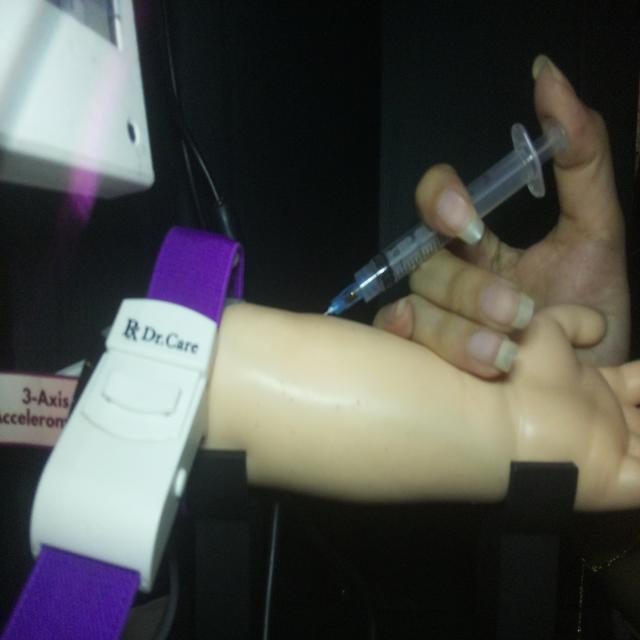27 degrees: (322, 113, 570, 320)
